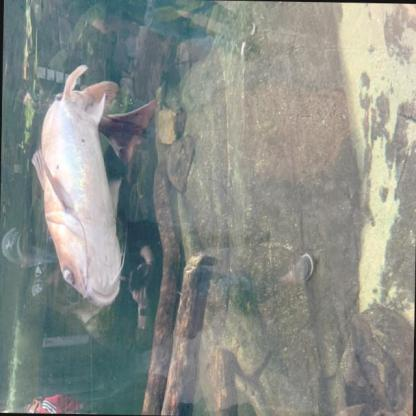fish: (29, 59, 156, 310)
